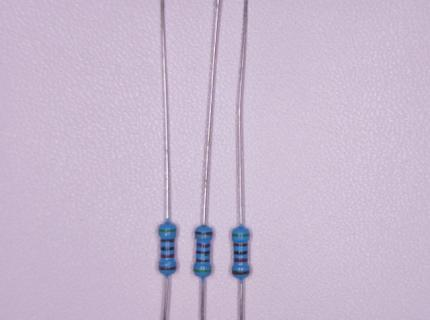Black band: (161, 246, 174, 251), (196, 250, 210, 254), (234, 251, 248, 254)
Brown band: (232, 270, 249, 275), (158, 266, 177, 270), (195, 231, 213, 235), (233, 242, 248, 246), (160, 239, 174, 242), (196, 259, 210, 262)
Green band: (232, 233, 250, 237), (194, 269, 211, 273), (158, 229, 177, 232)
Red band: (234, 258, 248, 262), (197, 243, 210, 247), (161, 254, 174, 257)
